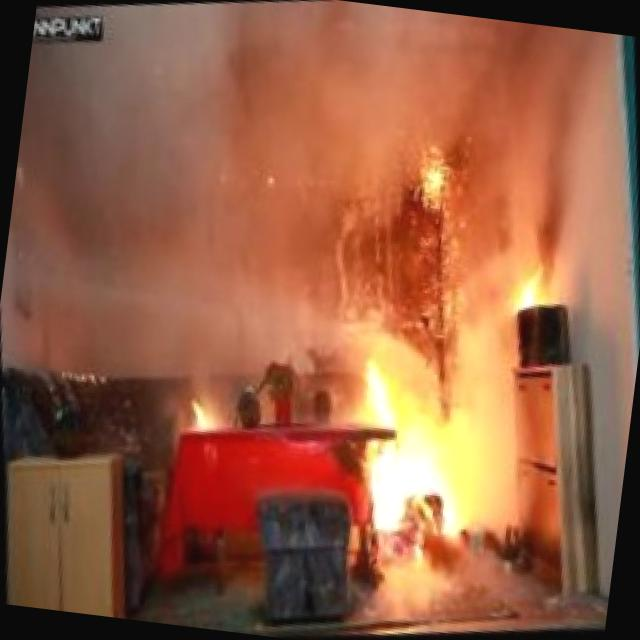fire: (328, 343, 486, 558)
smoke: (0, 0, 503, 402)
